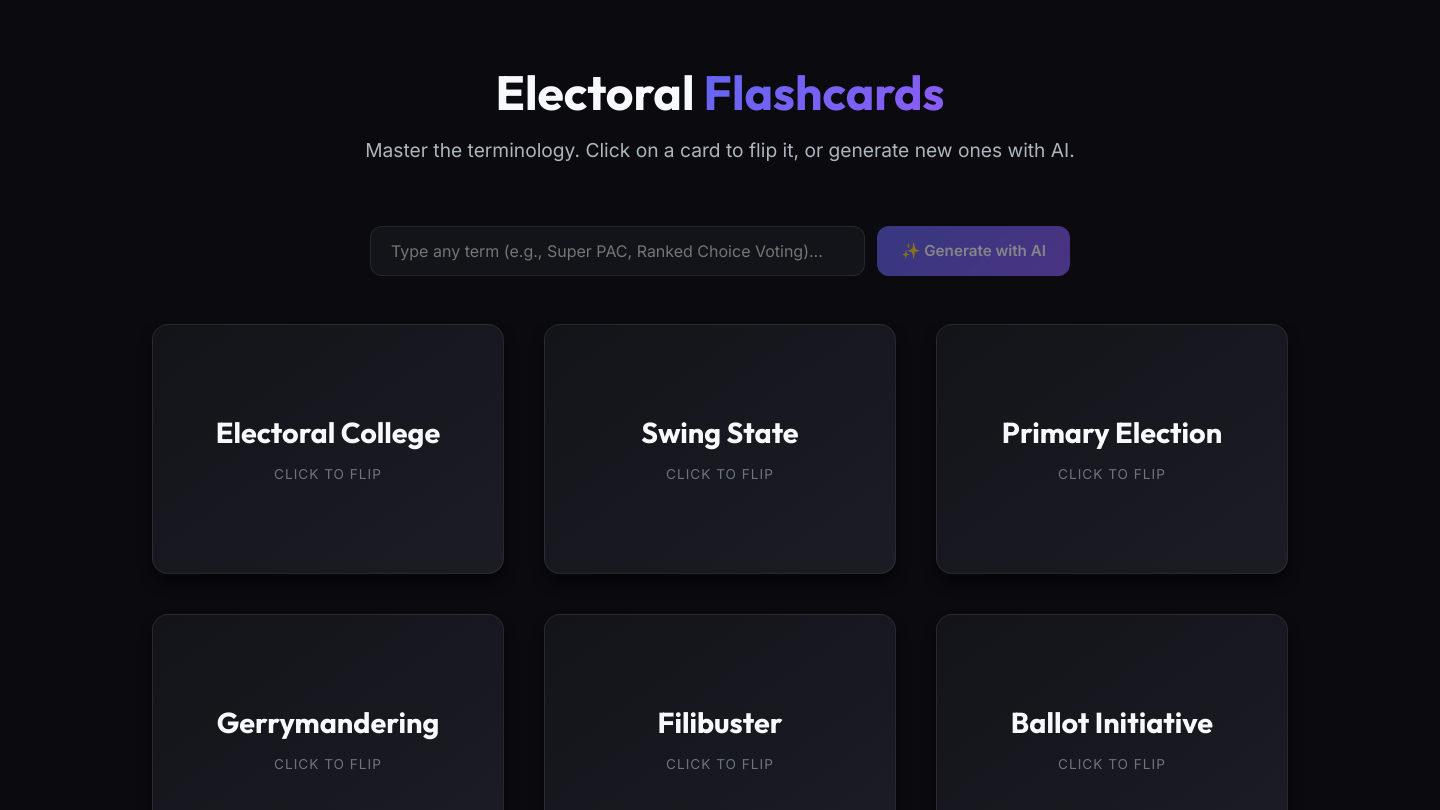
Test: Flashcards Component › generates a flashcard using the API
Type "Super PAC" into the field with placeholder "Type any term (e.g., Super PAC, Ranked Choice Voting)..." at (618, 251), box x1=370 y1=226 x2=866 y2=276
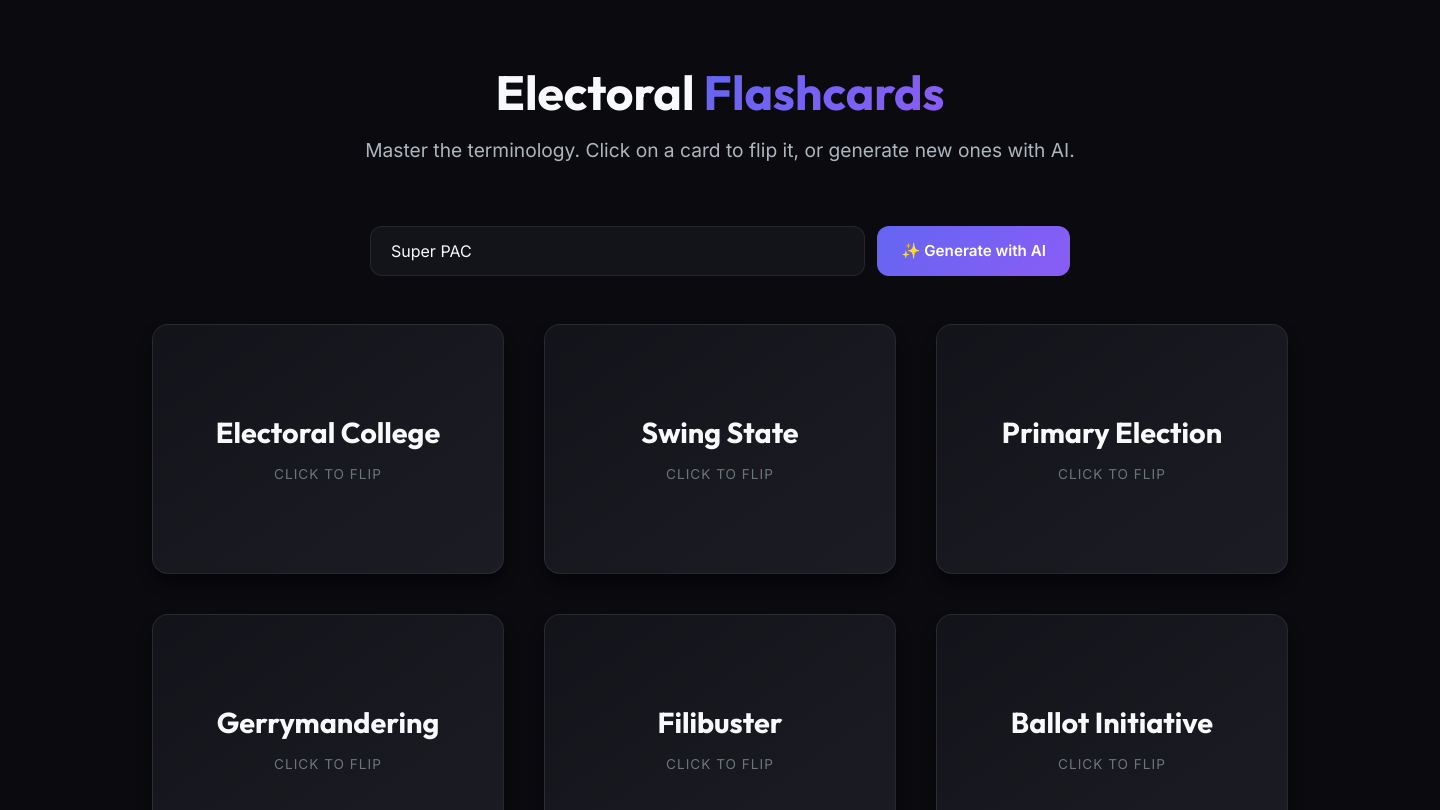
Click the button "✨ Generate with AI" at (974, 251), box x1=878 y1=226 x2=1070 y2=276
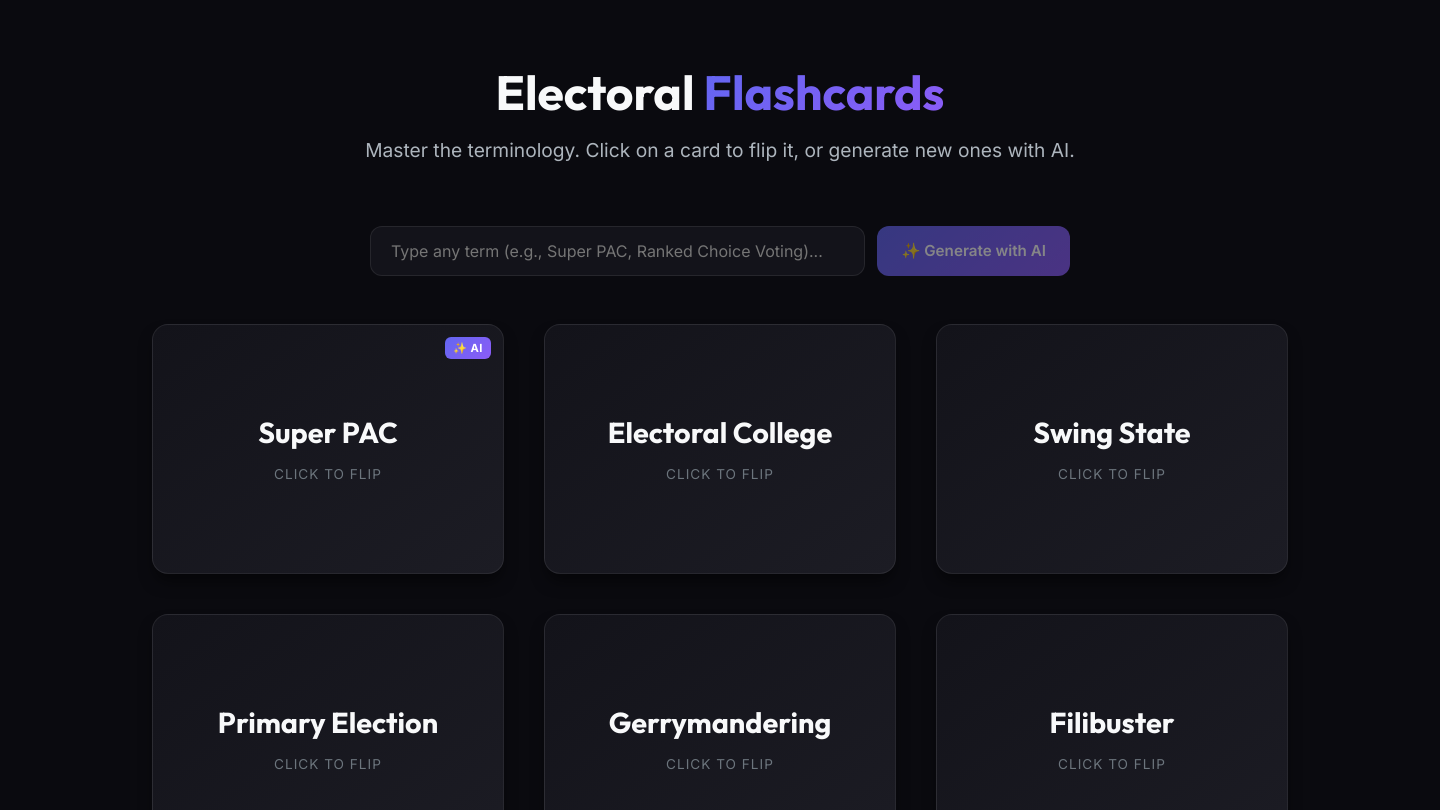
Expected: the heading "Super PAC" is shown, x1=258 y1=415 x2=398 y2=450
